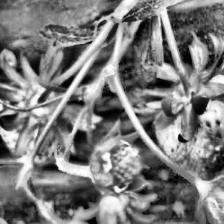Powdery Mildew Fruit: (154, 70, 224, 183), (88, 136, 144, 202)
